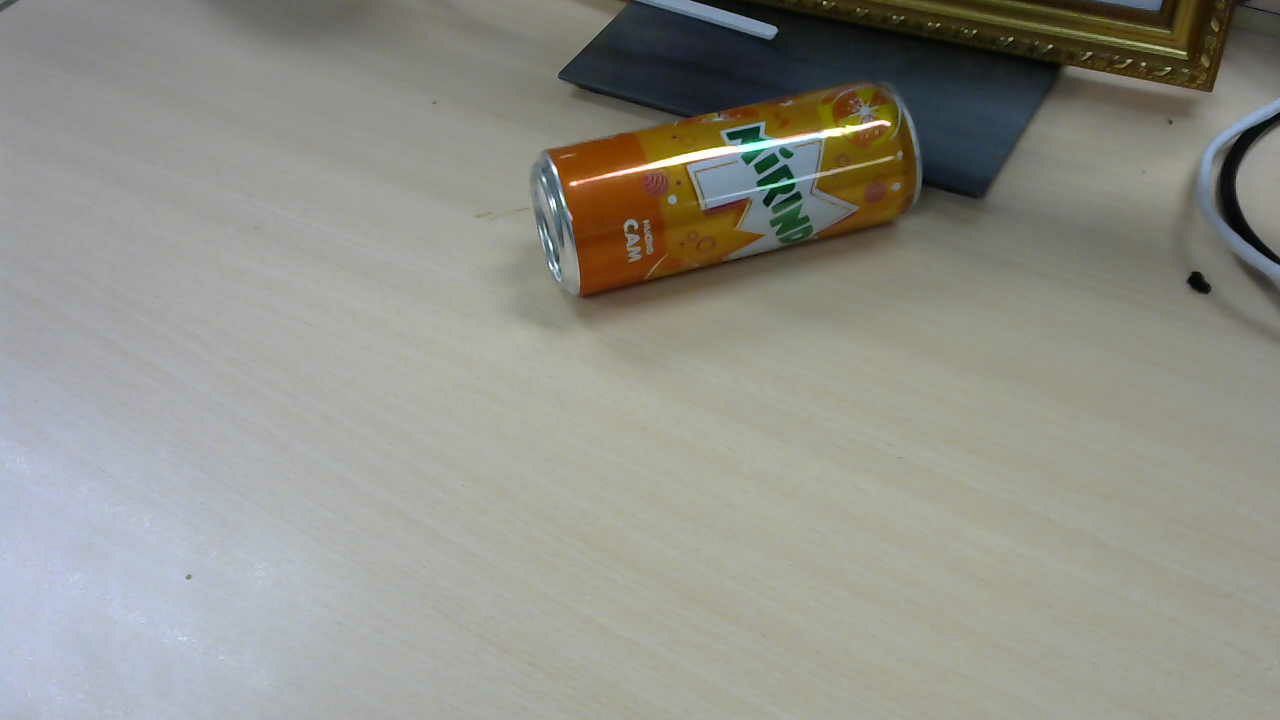Mirinda: (541, 79, 929, 301)
